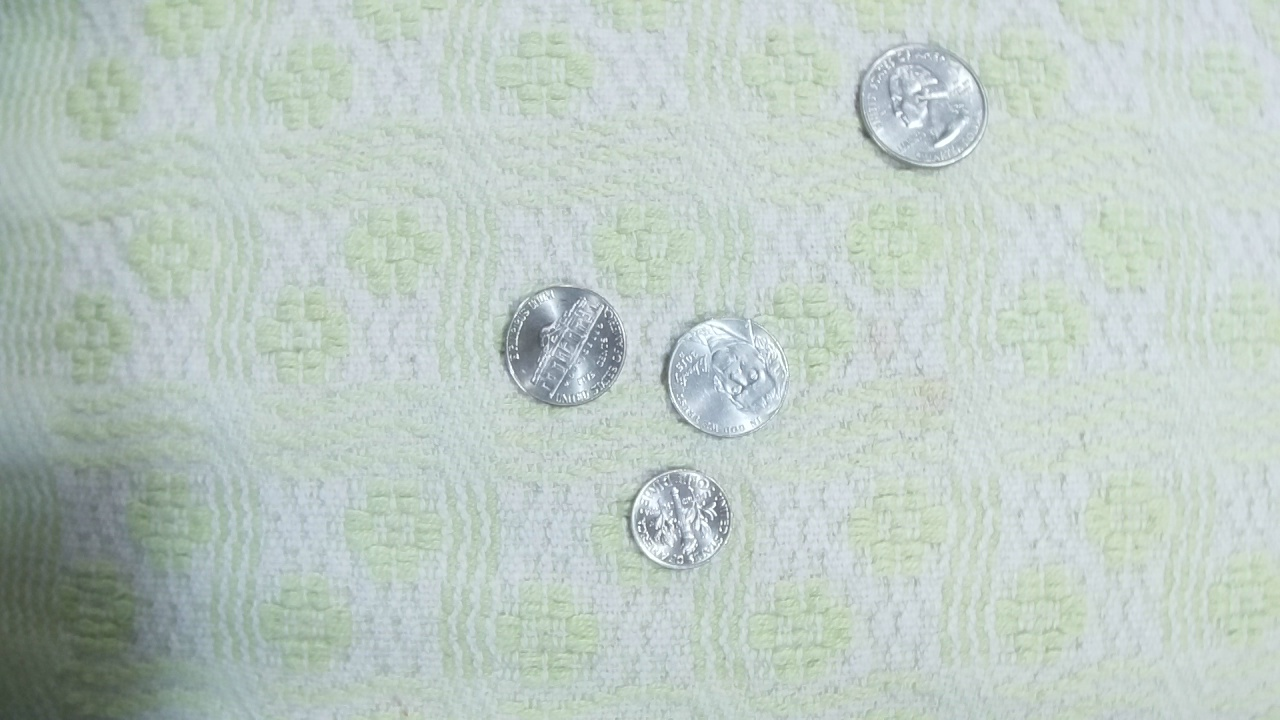dime: (627, 464, 731, 572)
nickel: (662, 315, 792, 440), (502, 285, 627, 411)
quarter: (855, 41, 988, 172)
